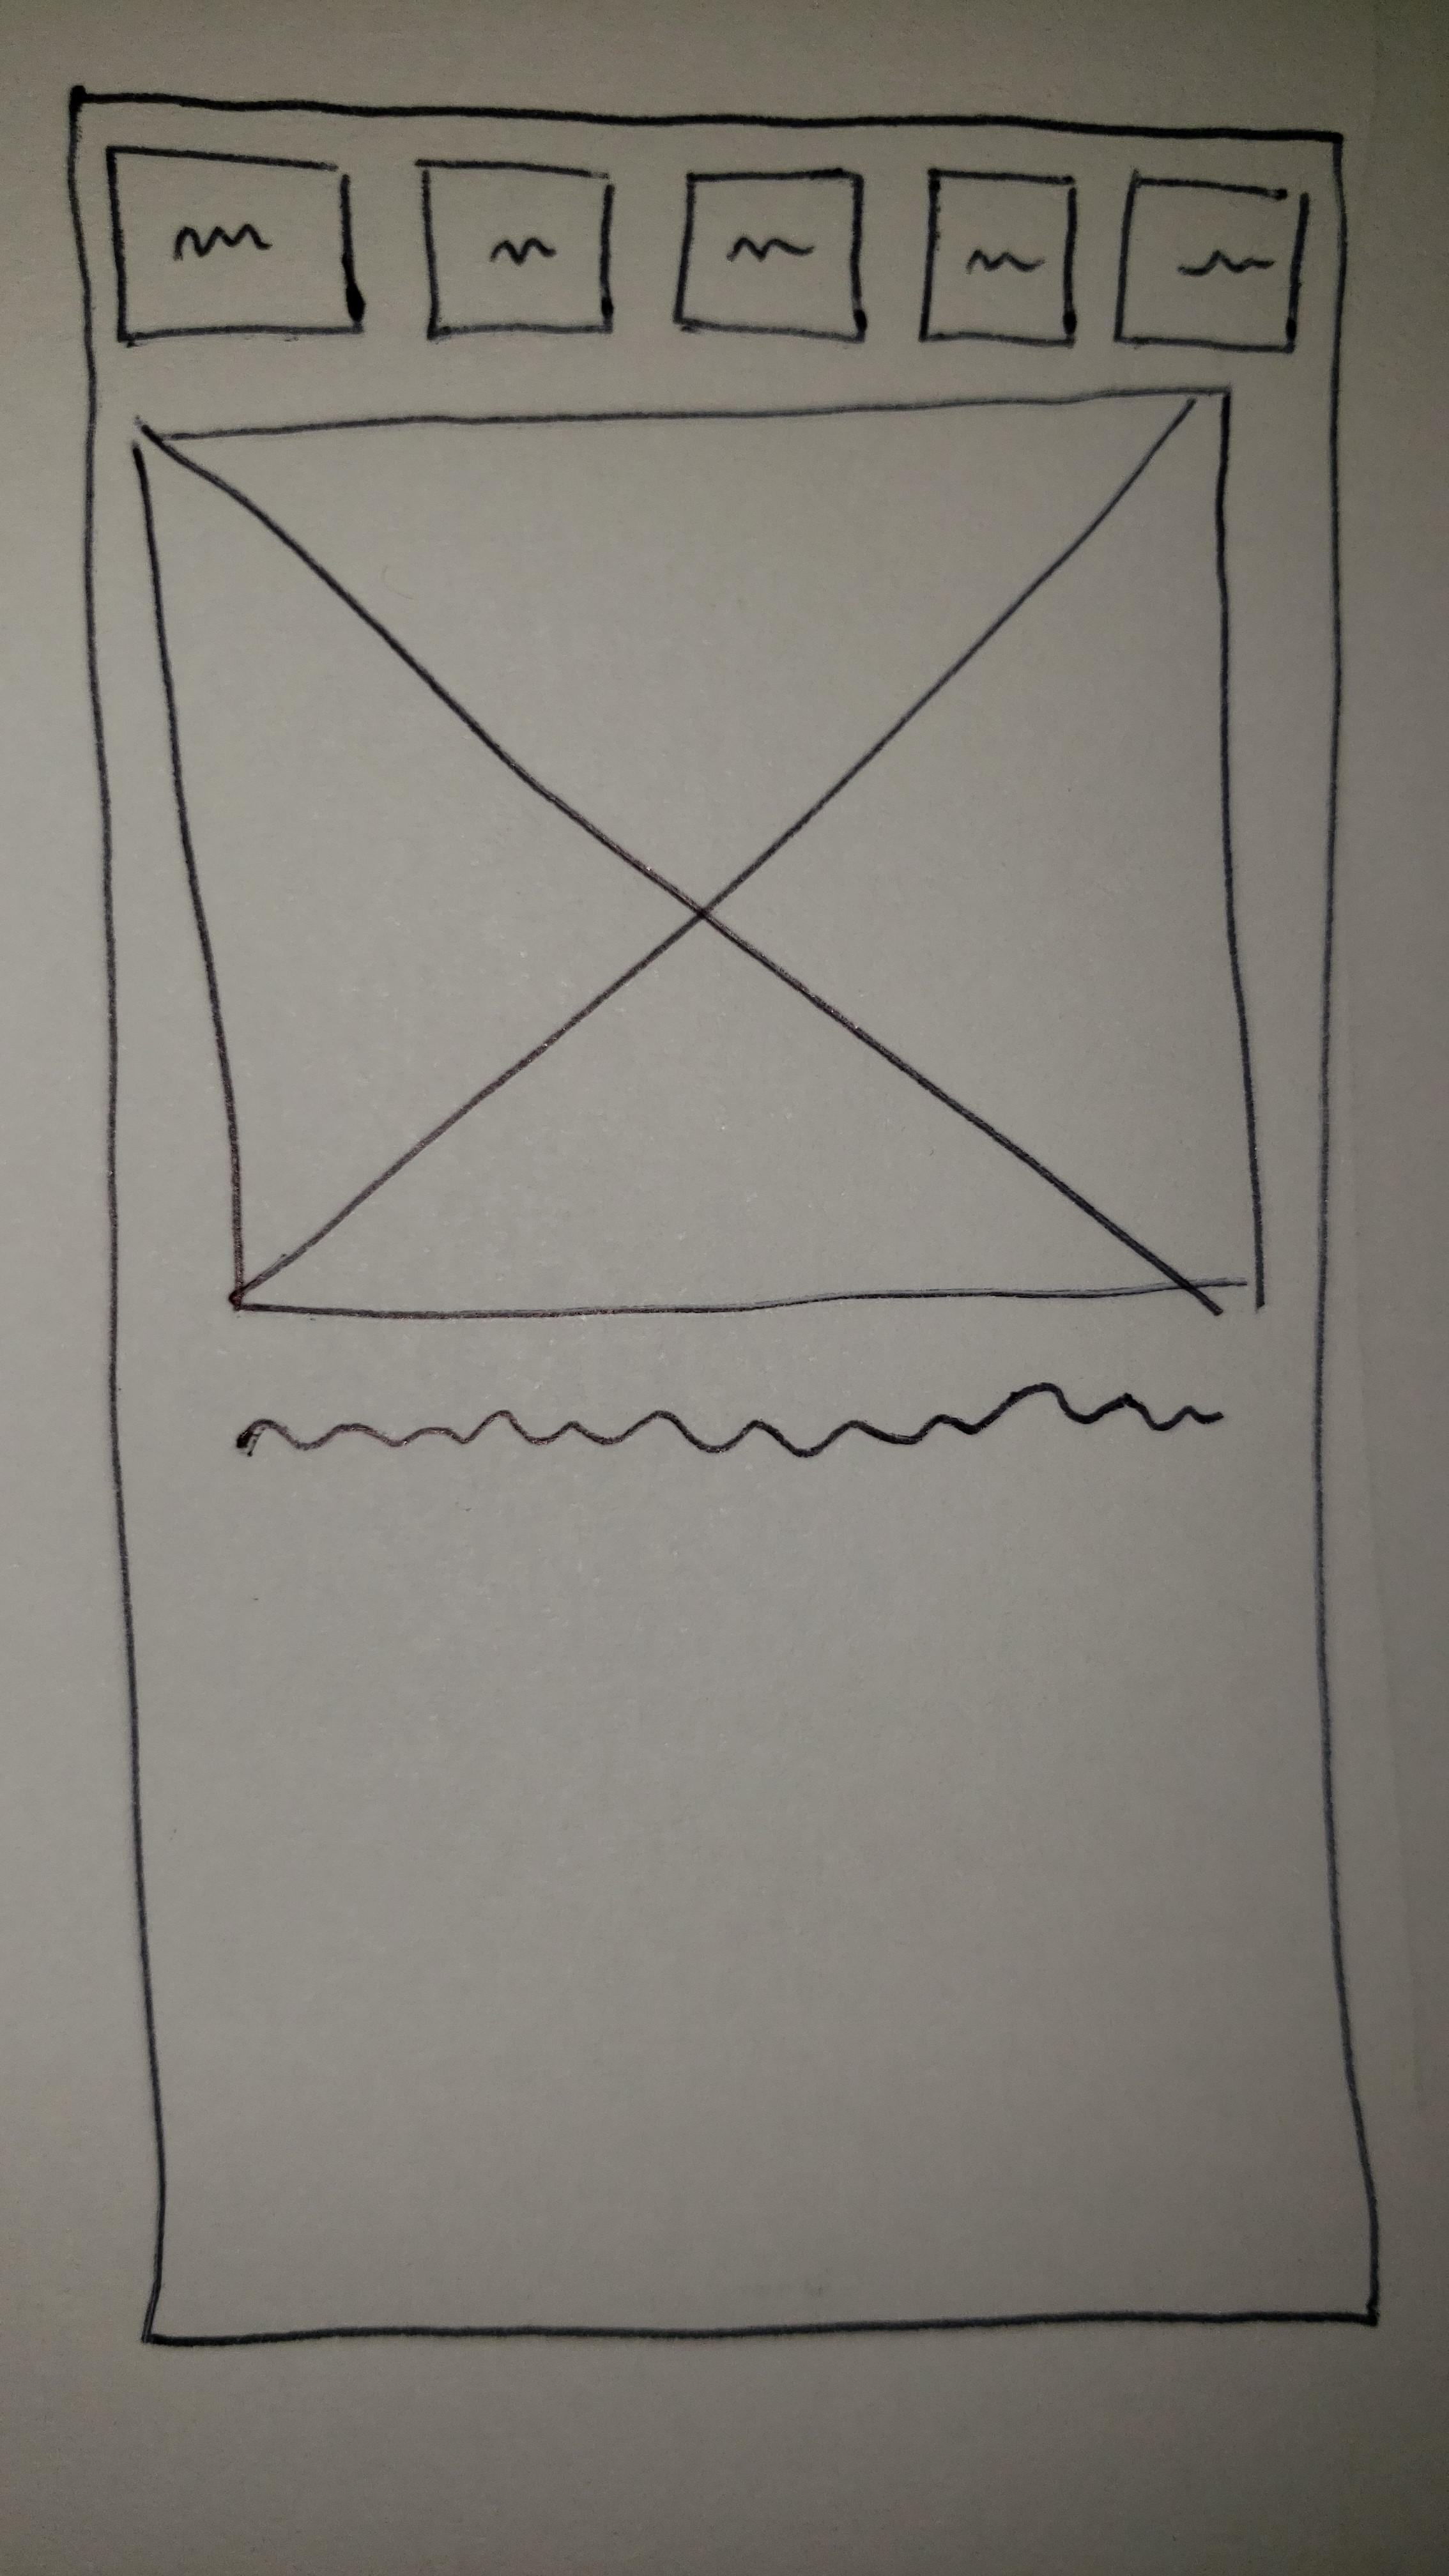Button: (106, 143, 366, 341), (418, 154, 619, 343), (1115, 179, 1309, 352), (672, 170, 865, 340), (913, 168, 1077, 345)
Image: (134, 386, 1265, 1320)
Label: (235, 1382, 1223, 1458)
Screen: (71, 88, 1380, 2344)
